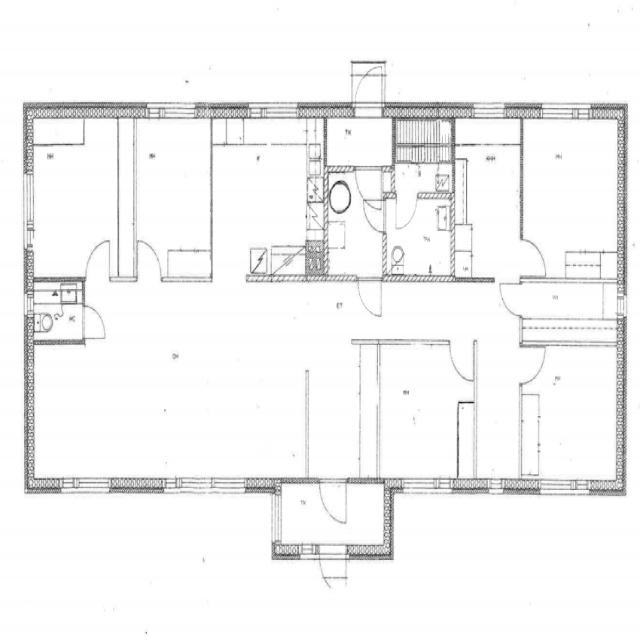door: (320, 544, 346, 600), (355, 63, 381, 118), (320, 478, 346, 524), (358, 276, 382, 320), (356, 167, 380, 210), (519, 347, 546, 383), (519, 240, 546, 276), (86, 241, 108, 283), (138, 242, 161, 282), (450, 341, 473, 381), (396, 193, 417, 231), (500, 284, 522, 316), (82, 307, 105, 337), (364, 200, 386, 230)
